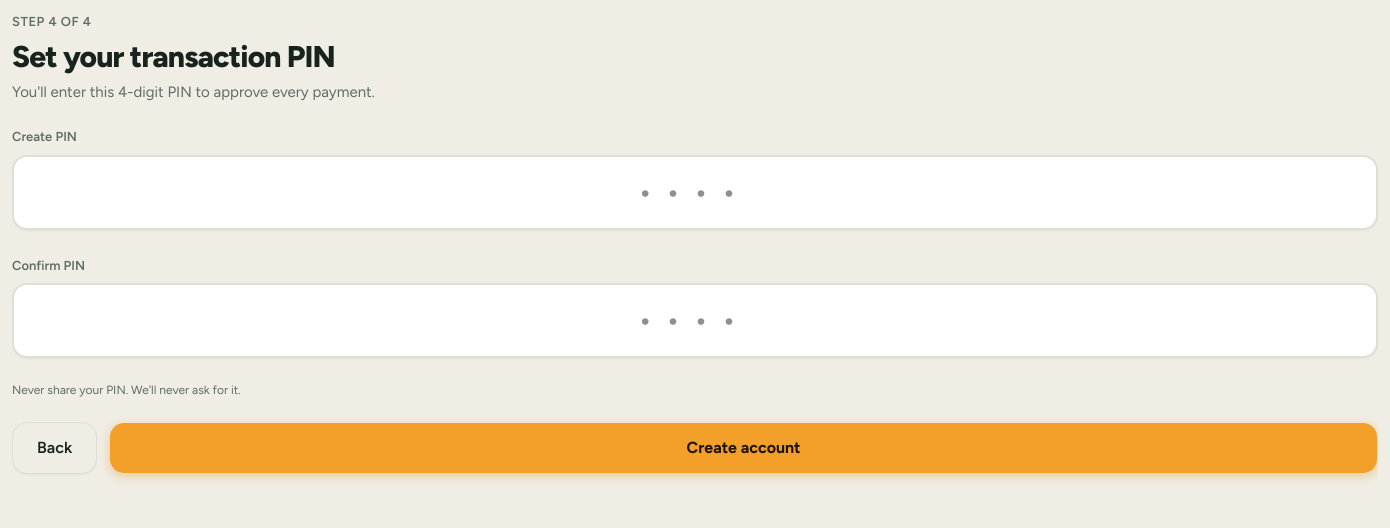
Test: PinStep › rejects a mismatched confirmation client-side
In the password field labelled "Create PIN": point(695, 192) [12,155,1378,230], type "2468"
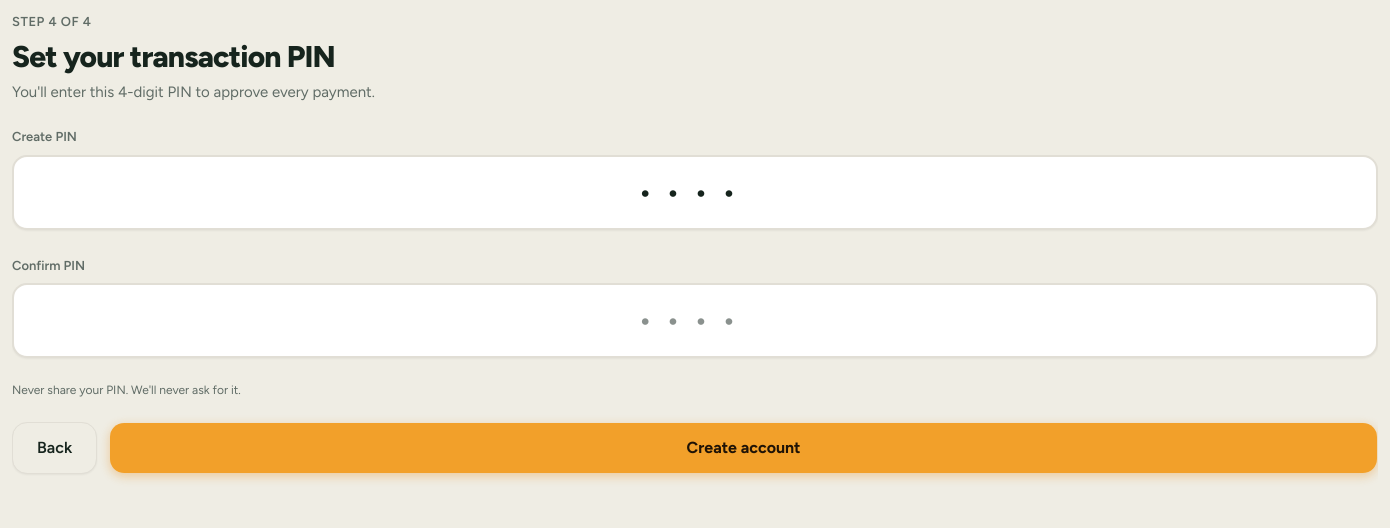
In the password field labelled "Confirm PIN": point(695, 321) [12,283,1378,358], type "2469"
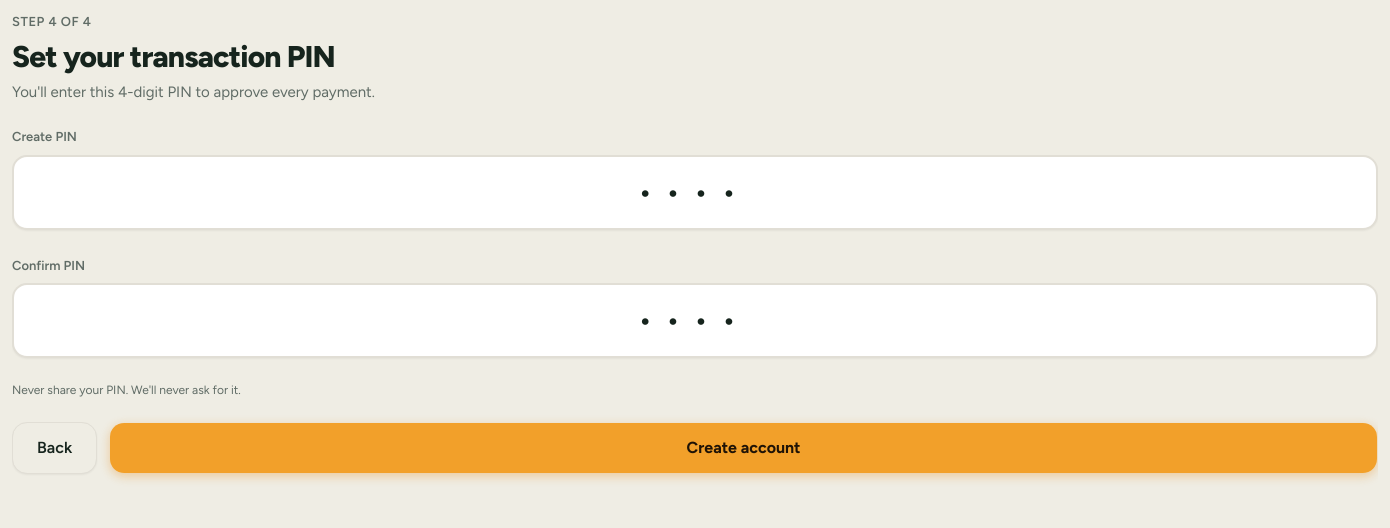
Click the button "Create account": point(744, 448) [109,422,1378,474]
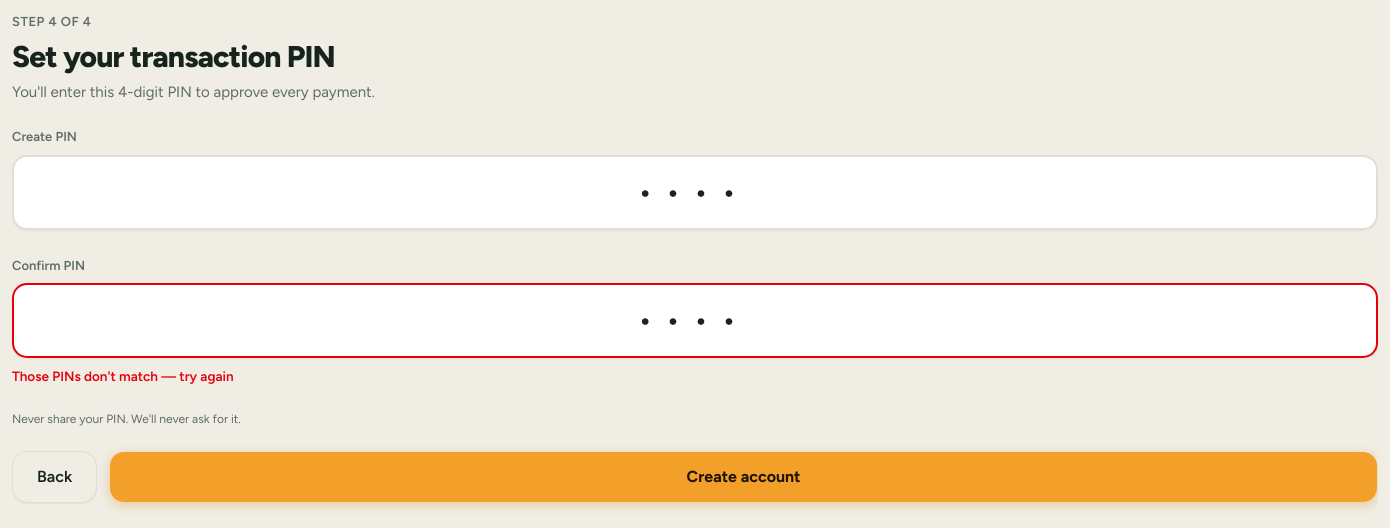
Check: the text "Those PINs don't match — try again" is shown, box [12,368,234,384]
